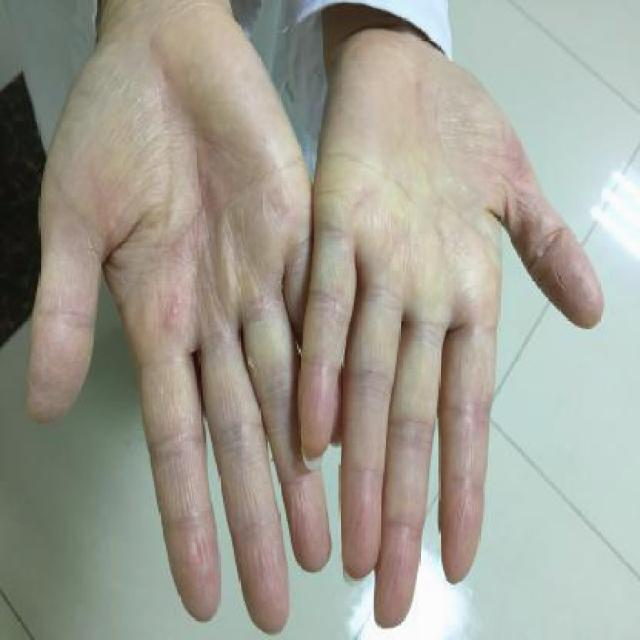hand_noglove: (28, 49, 366, 634), (288, 52, 608, 640)
